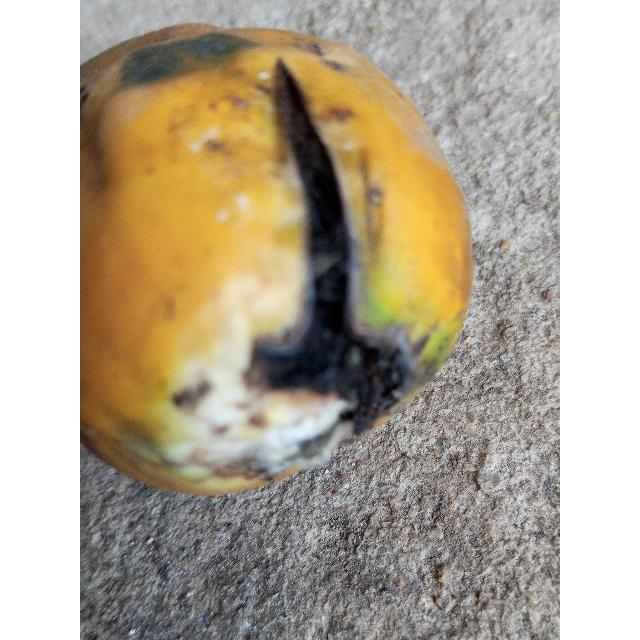damaged: (80, 23, 473, 499)
